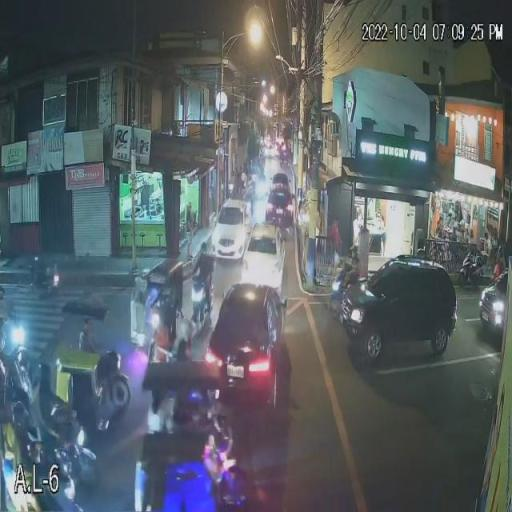helmet: (198, 241, 208, 257)
motorcycle: (192, 282, 209, 332)
rider: (191, 255, 217, 284)
